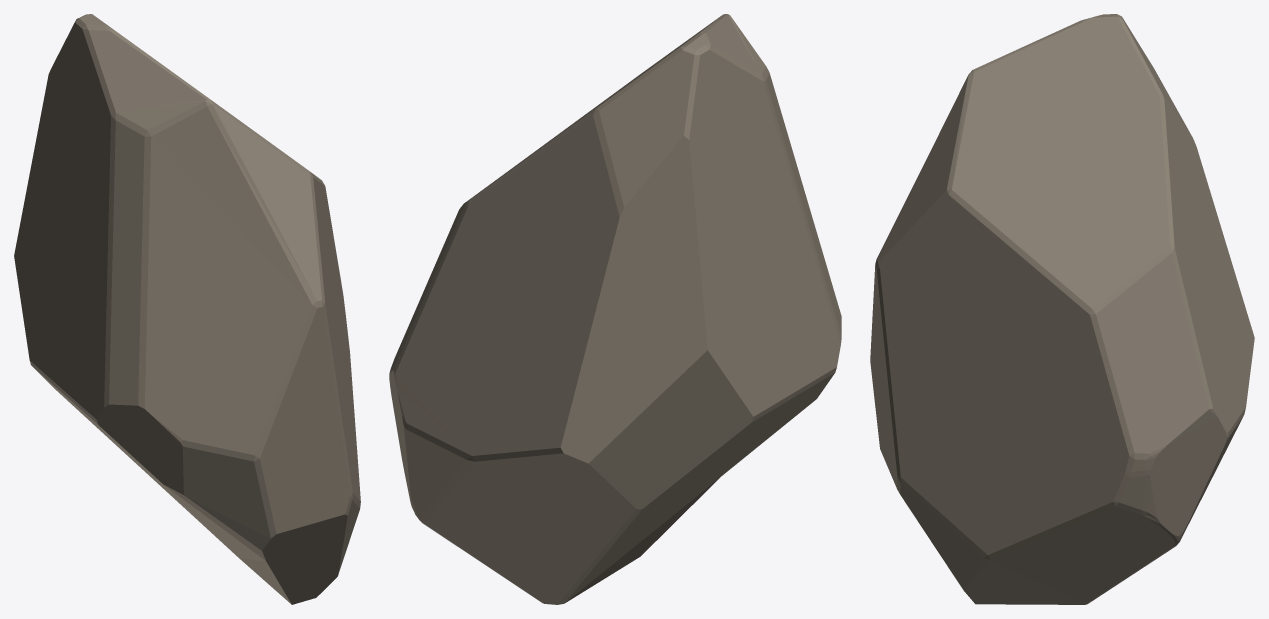
The model's file is FacetedRock1.fbx.
The picture shows the model from 3 angles, left to right: view 1: azimuth 30°, elevation 25°; view 2: azimuth 150°, elevation 25°; view 3: azimuth 270°, elevation 25°; orthographic projection. The views are drawn at different scales.
Visible parts, largest first — view 1: FacetedRock1; view 2: FacetedRock1; view 3: FacetedRock1.
Boxes of the visible parts, x1=… form: FacetedRock1: x1=14, y1=14, x2=360, y2=604; FacetedRock1: x1=389, y1=14, x2=841, y2=604; FacetedRock1: x1=870, y1=14, x2=1254, y2=604.
Size of the model in its own units: 165 by 271 by 182.
